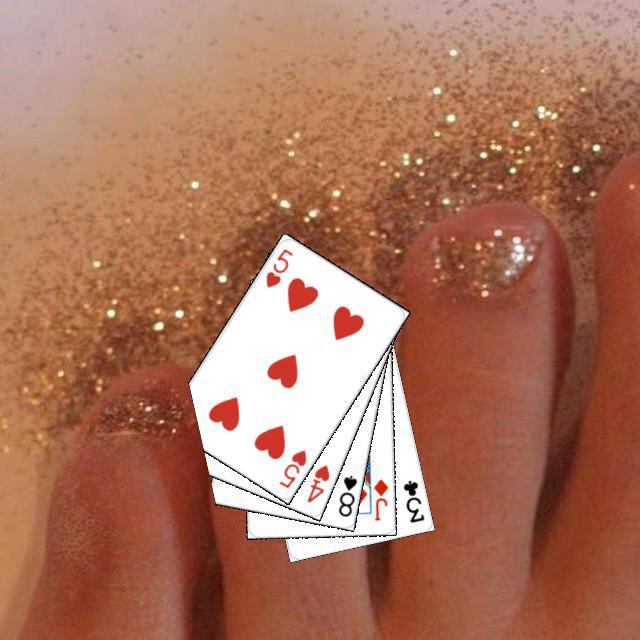3c: (398, 475, 426, 524)
4h: (302, 460, 331, 504)
5h: (274, 444, 308, 490), (261, 243, 295, 289)
8s: (333, 470, 359, 518)
Jd: (369, 474, 390, 522)
